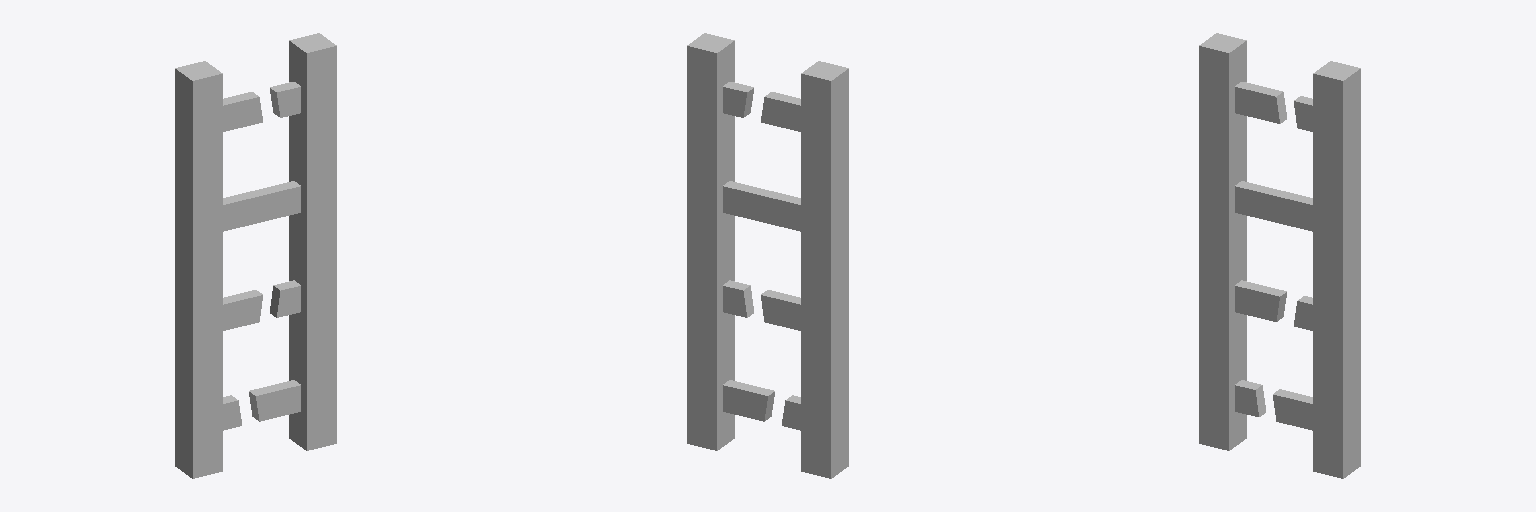
Rendered from ladderBroken.obj.
3 views of the same model, side by side, from view 1: azimuth 30°, elevation 25°; view 2: azimuth 150°, elevation 25°; view 3: azimuth 330°, elevation 25° (orthographic).
Visible parts, largest first — view 1: ladderBroken; view 2: ladderBroken; view 3: ladderBroken.
Boxes of the visible parts, <box> form: ladderBroken: <box>175,33,336,478</box>; ladderBroken: <box>687,33,848,478</box>; ladderBroken: <box>1199,33,1360,478</box>.
Bounding box in the file's own units: 0.38 × 1 × 0.08.